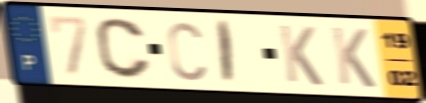7: (45, 13, 90, 79)
C: (93, 15, 154, 81), (165, 19, 208, 83)
I: (217, 18, 236, 86)
K: (328, 24, 378, 91), (276, 22, 326, 89)
